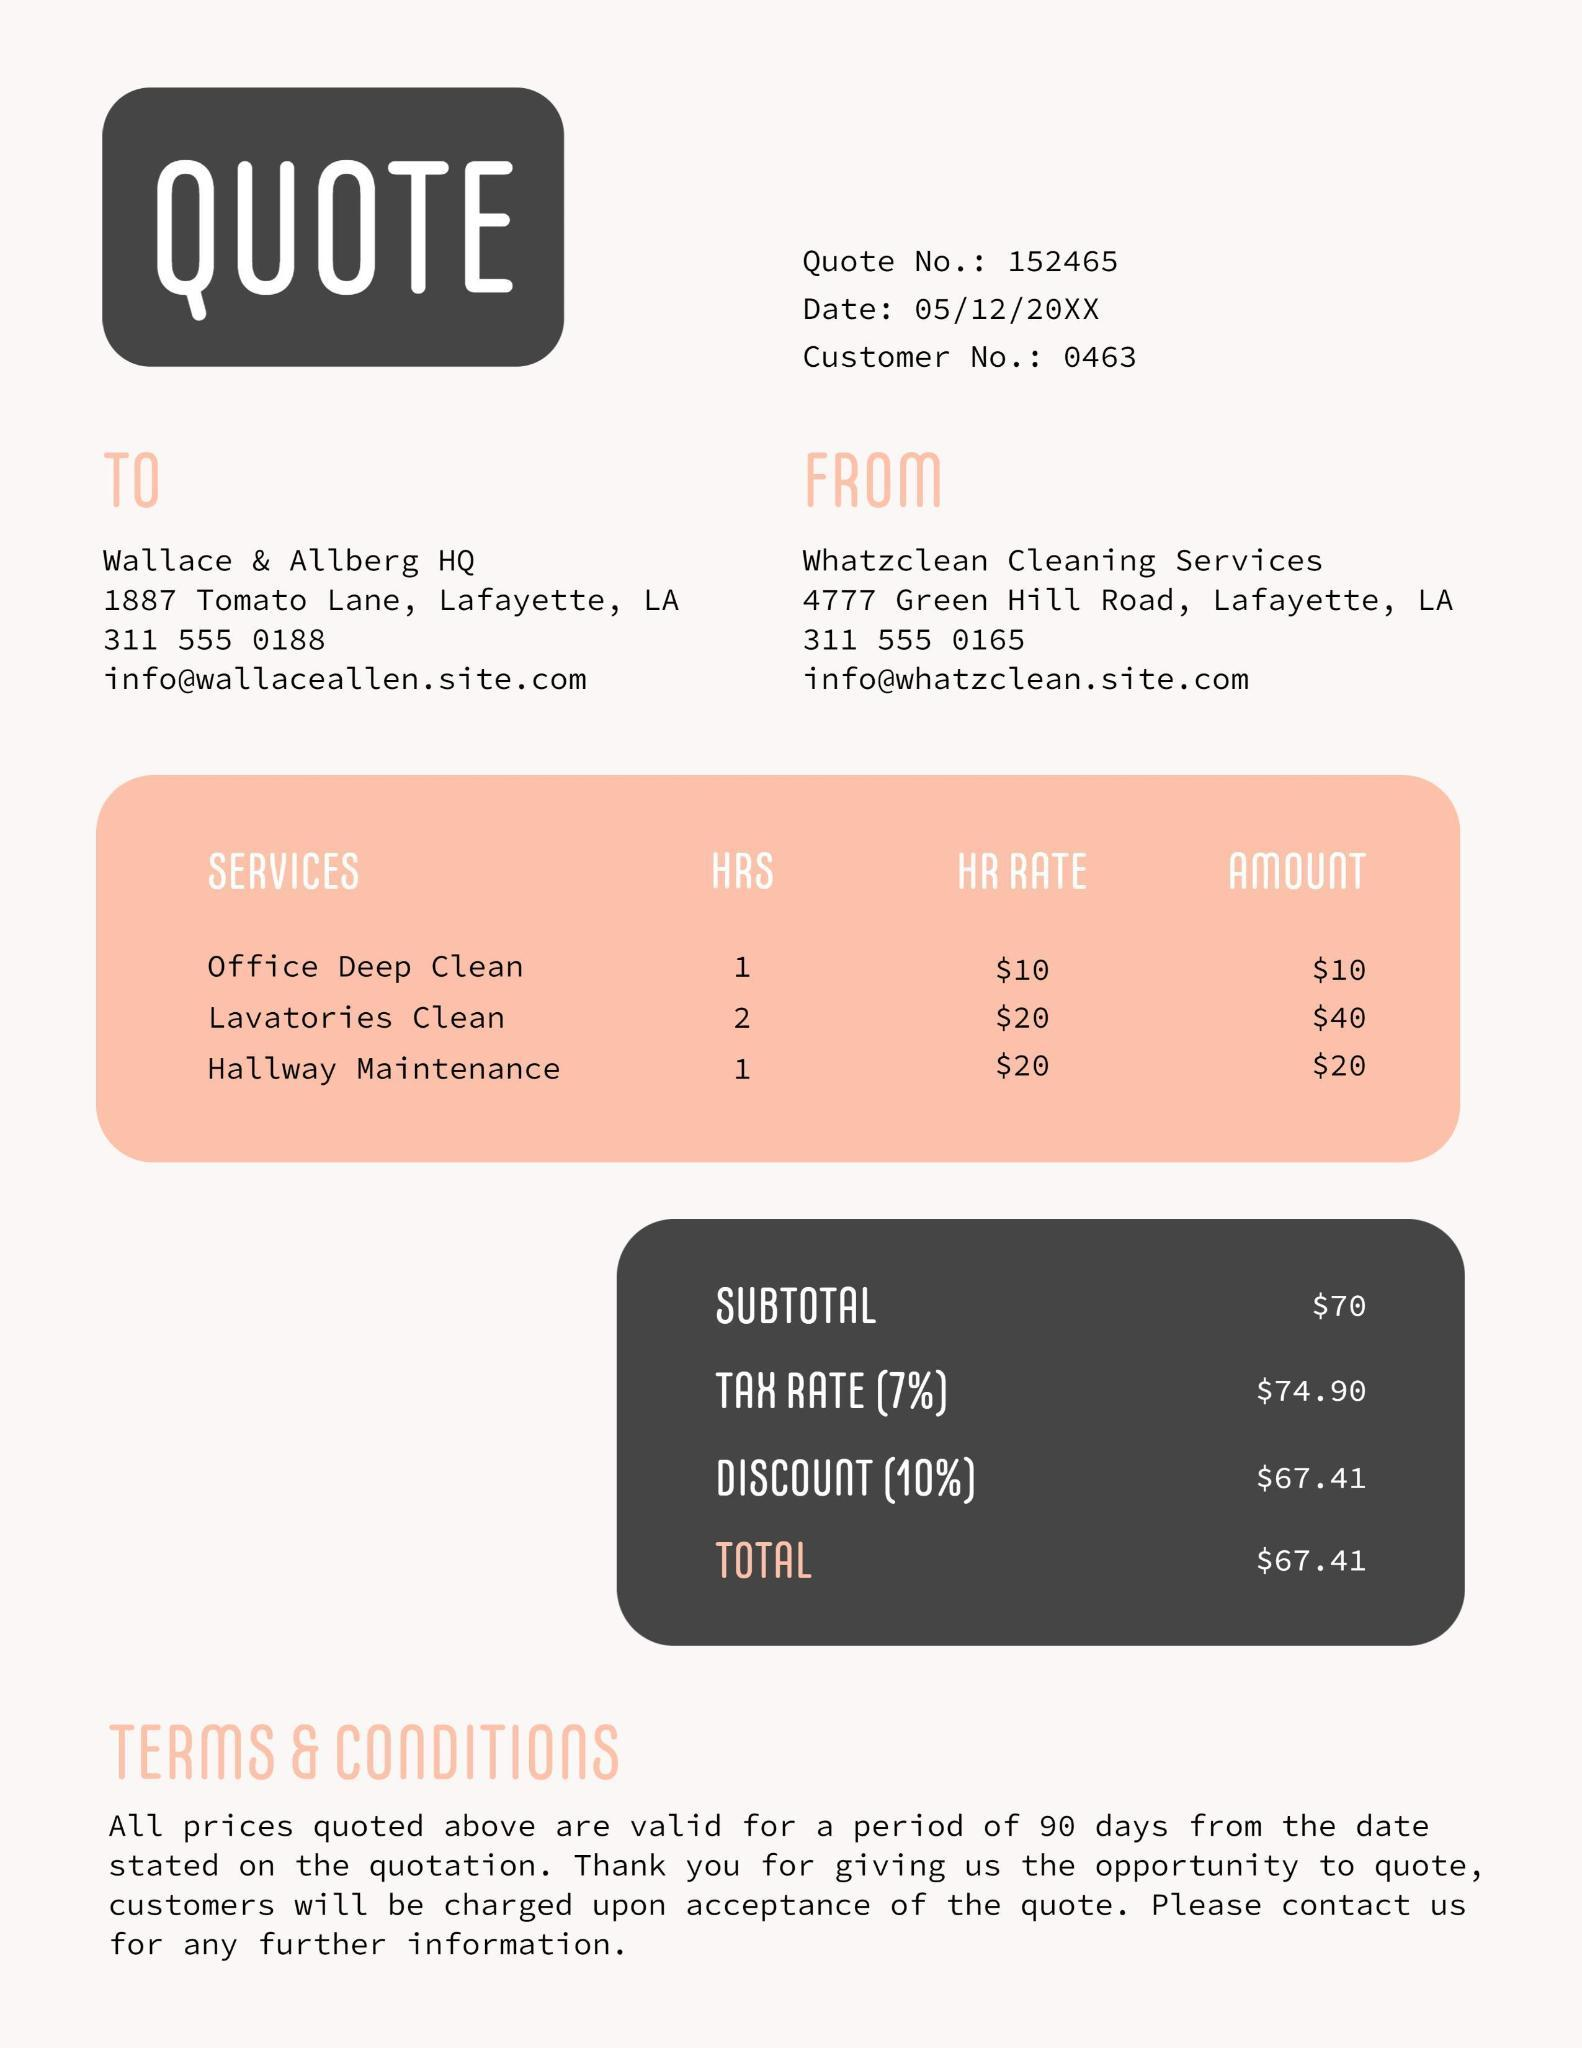ROI: (93, 761, 1456, 1173), (58, 1707, 1516, 1988), (602, 1216, 1492, 1663), (768, 410, 1501, 741), (90, 415, 700, 728), (76, 51, 608, 380), (784, 234, 1172, 395)
